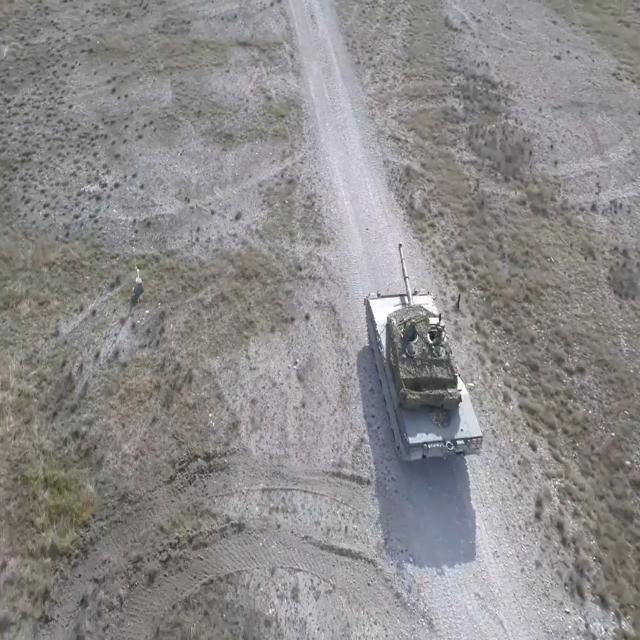MIL_MBT: (363, 236, 483, 462)
